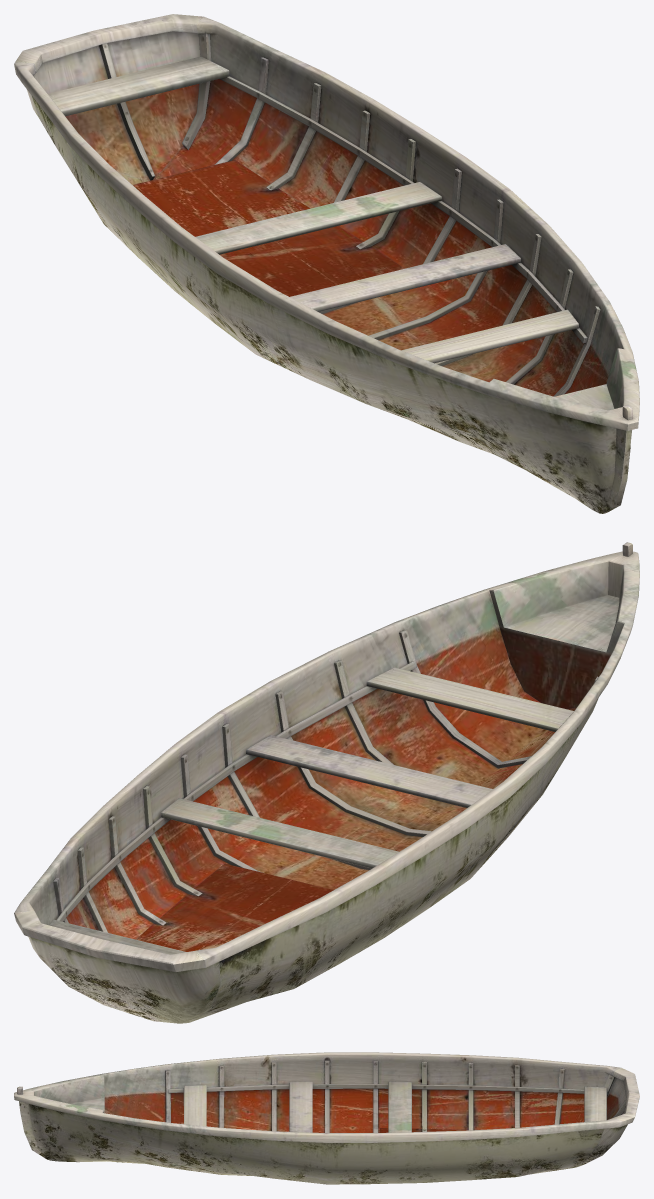
File: rowboat.glb
The picture shows the model from 3 angles, top to bottom: view 1: azimuth 30°, elevation 25°; view 2: azimuth 150°, elevation 25°; view 3: azimuth 270°, elevation 25°; orthographic projection. The views are drawn at different scales.
Parts seen in each view (by area): view 1: dock; view 2: dock; view 3: dock.
Part boxes in pixels (x1=…): dock: x1=14, y1=14, x2=639, y2=513; dock: x1=14, y1=542, x2=639, y2=1023; dock: x1=14, y1=1052, x2=639, y2=1184.
Size of the model in its own units: 1.06 by 0.4603 by 3.39.
1 material, 1 textured.
